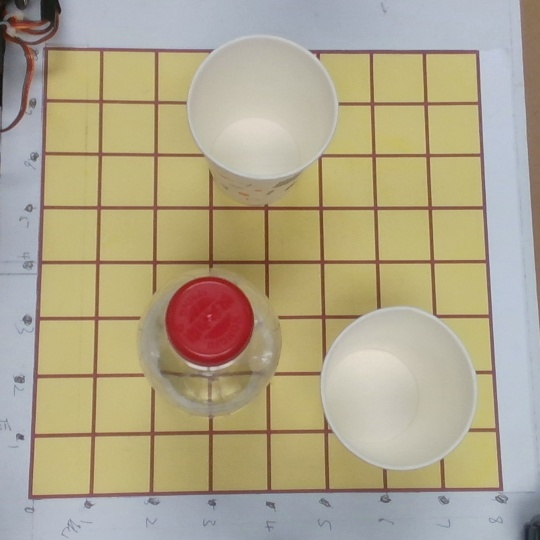bottle: (133, 266, 282, 422)
cup: (180, 34, 338, 220), (307, 306, 479, 473)
